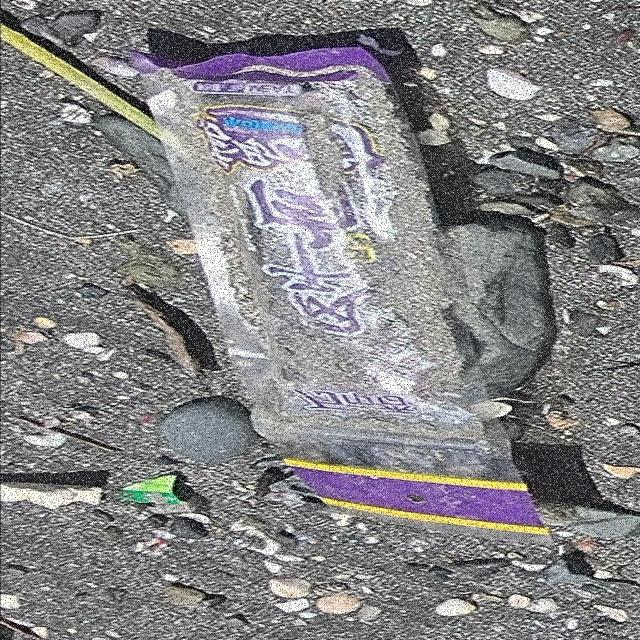plastic_waste: (115, 45, 565, 552)
